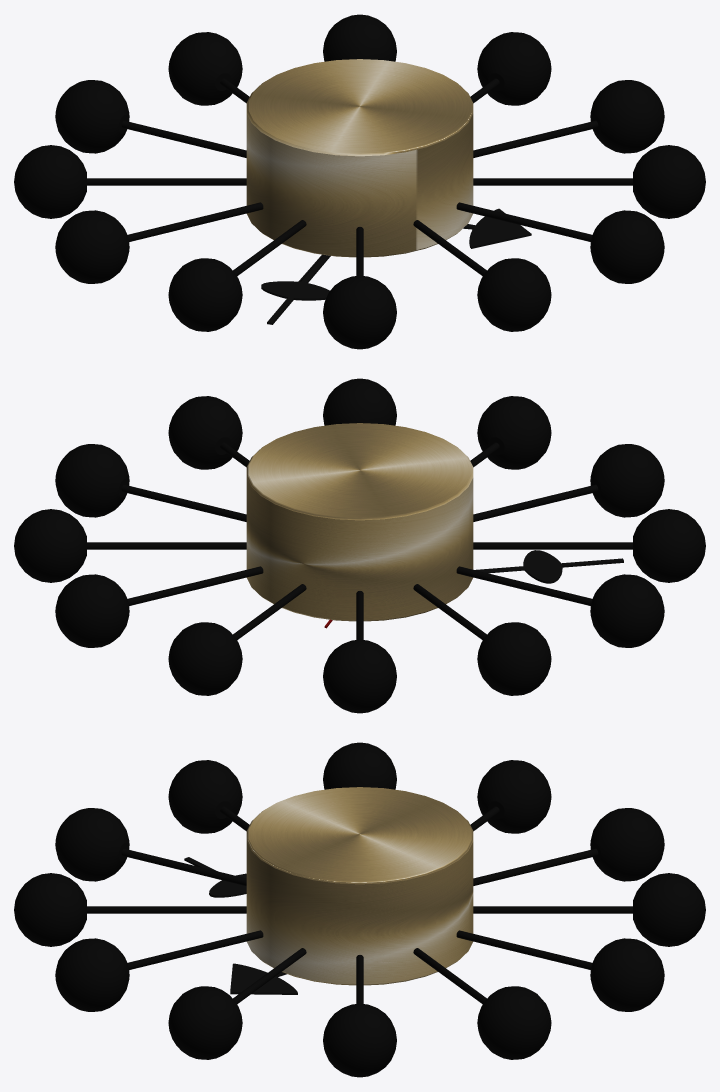
File: vitra_ball_clock_mat(6).obj
3 views of the same model, one above another, from view 1: azimuth 30°, elevation 25°; view 2: azimuth 150°, elevation 25°; view 3: azimuth 270°, elevation 25° (orthographic).
Parts seen in each view (by area): view 1: vitra_ball_clock_mat6; view 2: vitra_ball_clock_mat6; view 3: vitra_ball_clock_mat6.
Boxes of the visible parts, left/top/right/bottom form: vitra_ball_clock_mat6: left=14, top=14, right=705, bottom=349; vitra_ball_clock_mat6: left=14, top=378, right=705, bottom=713; vitra_ball_clock_mat6: left=14, top=742, right=705, bottom=1077.
Bounding box in the file's own units: 33.15 × 6.15 × 33.15.
5 materials, 1 textured.
